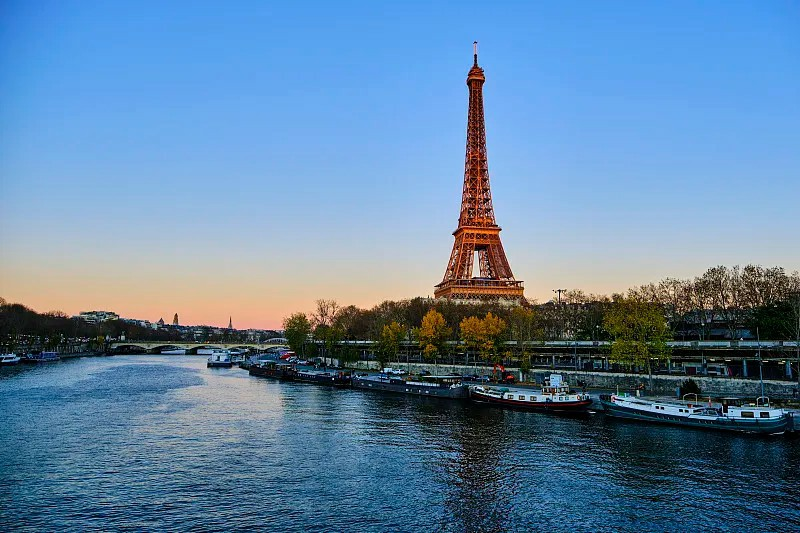Eiffel: (432, 40, 527, 307)
